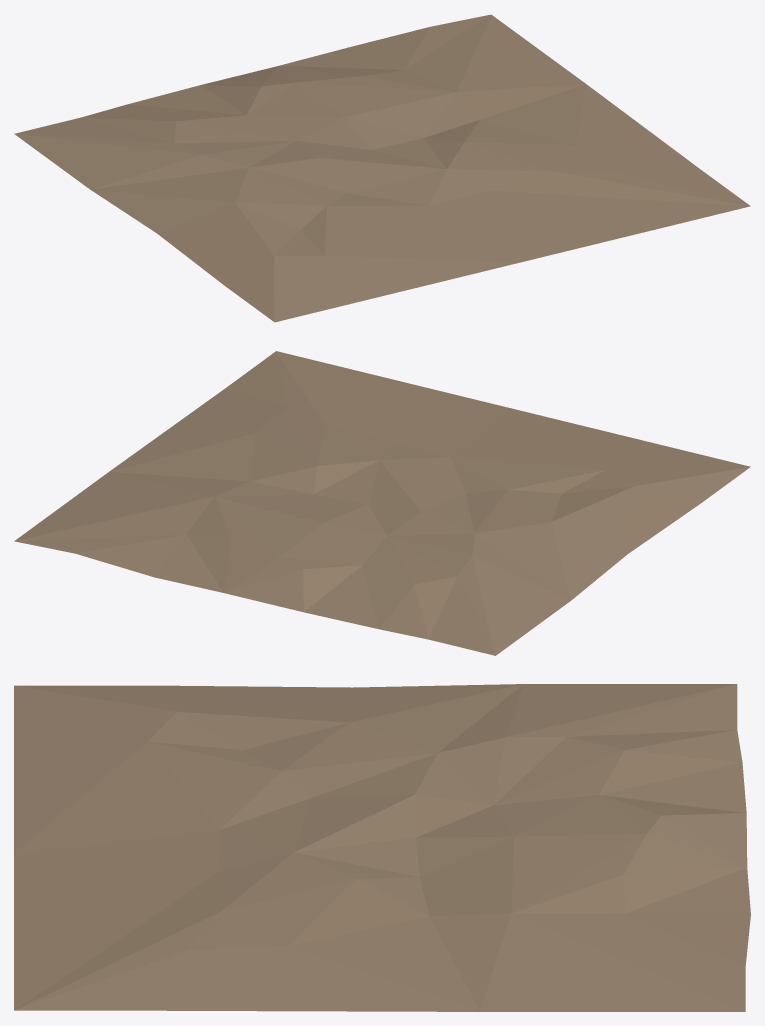
File: SM_Env_Ground_Square_01.fbx
The picture shows the model from 3 angles, top to bottom: view 1: azimuth 30°, elevation 25°; view 2: azimuth 150°, elevation 25°; view 3: azimuth 270°, elevation 25°; orthographic projection. The views are drawn at different scales.
Parts seen in each view (by area): view 1: SM_Env_Ground_Square_01; view 2: SM_Env_Ground_Square_01; view 3: SM_Env_Ground_Square_01.
Part boxes in pixels (box(x1,y1,x2,y2)): SM_Env_Ground_Square_01: box(14, 14, 750, 322); SM_Env_Ground_Square_01: box(14, 351, 750, 655); SM_Env_Ground_Square_01: box(14, 684, 750, 1011).
Bounding box in the file's own units: 1402 × 39.83 × 1331.
